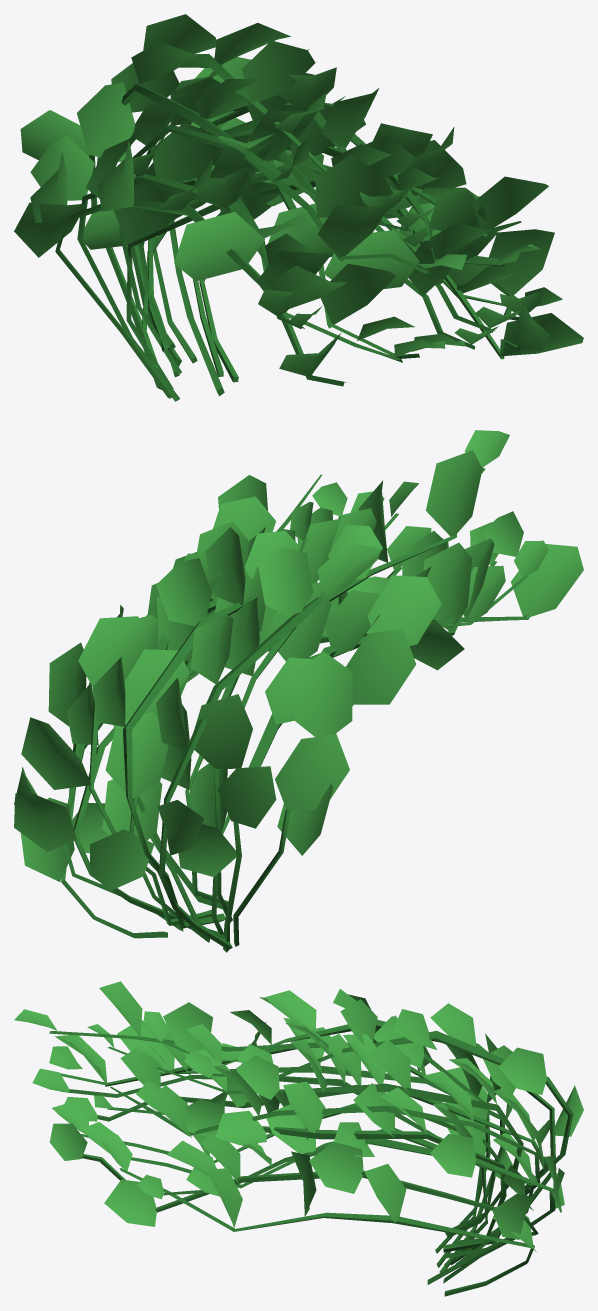
The model's file is plant-c.glb.
3 views of the same model, one above another, from view 1: azimuth 30°, elevation 25°; view 2: azimuth 150°, elevation 25°; view 3: azimuth 270°, elevation 25° (orthographic). The views are drawn at different scales.
Parts seen in each view (by area): view 1: flower_025; view 2: flower_025; view 3: flower_025.
Part boxes in pixels (left/top/right/bottom): flower_025: left=14, top=14, right=583, bottom=401; flower_025: left=14, top=430, right=583, bottom=952; flower_025: left=14, top=981, right=583, bottom=1296.
Size of the model in its own units: 0.5574 by 0.5619 by 0.996.
1 material, 1 textured.
